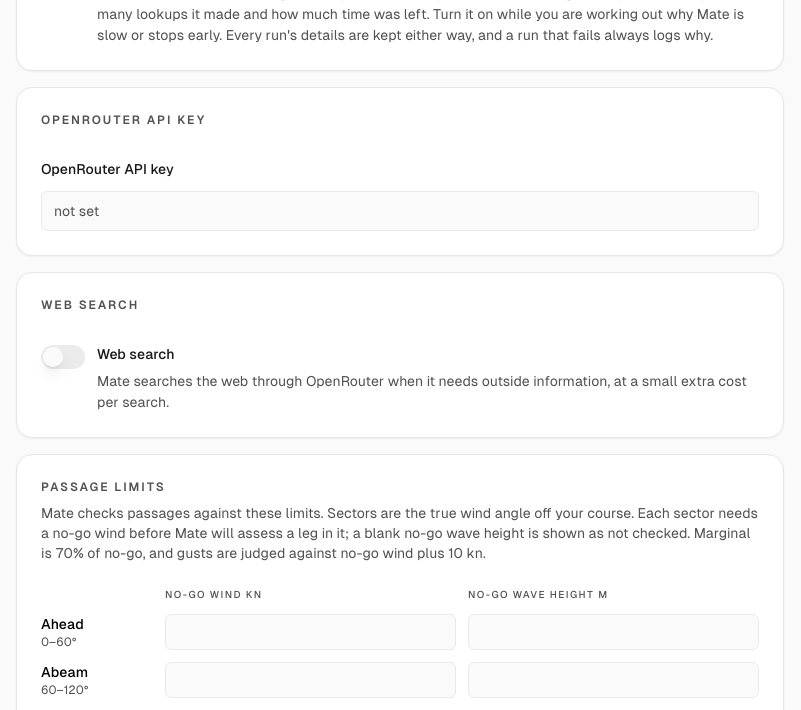
it: assistant settings-draft plumbing › shows the Search model picker only while Web search is on
(page scrolled)
Click the switch named "Web search": (63, 357) [41,345,85,369]
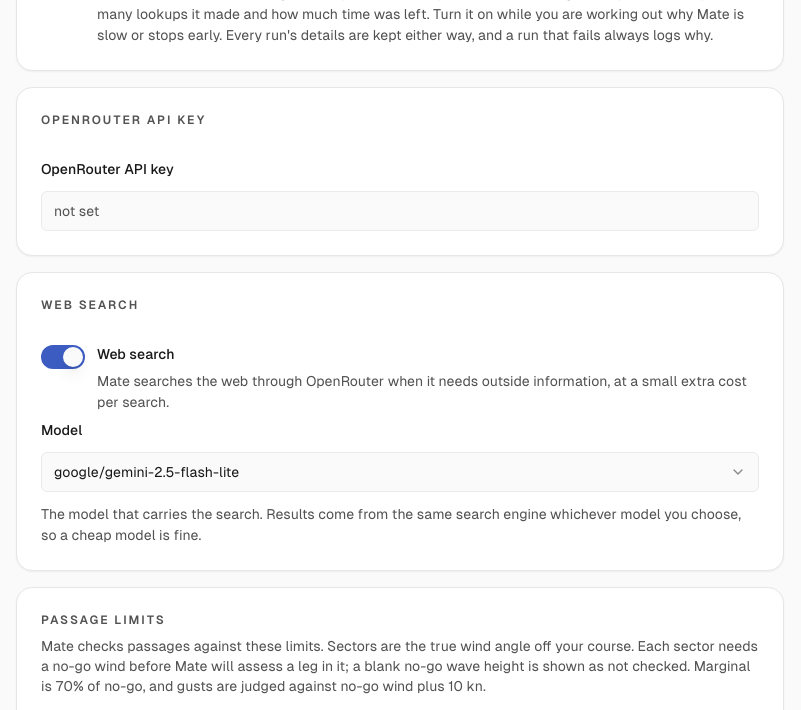
Result: the dropdown named "Search model" reads "google/gemini-2.5-flash-lite" at [41,452,759,492]
Result: the text "a cheap model is fine" is shown at [41,506,741,543]
